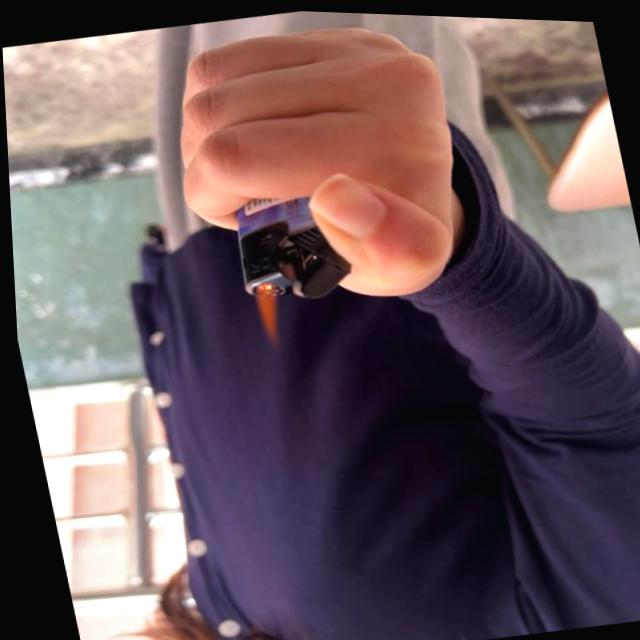Fire: (245, 277, 287, 351)
